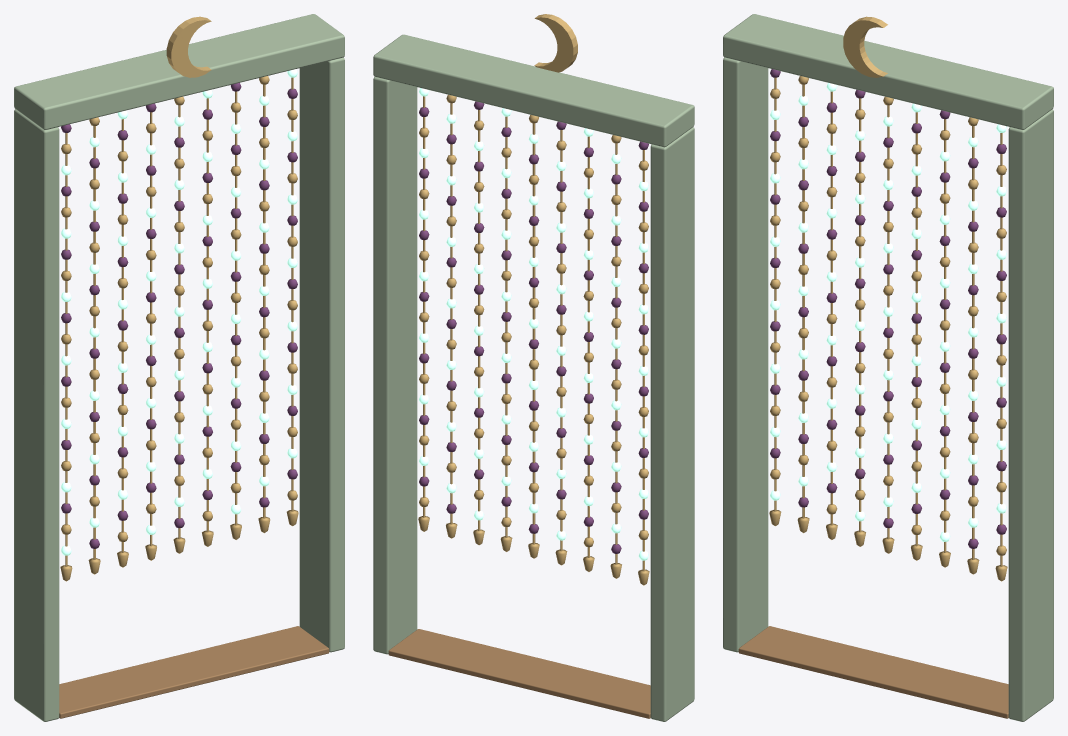
Rendered from Beaded_Doorway.fbx.
The picture shows the model from 3 angles, left to right: view 1: azimuth 30°, elevation 25°; view 2: azimuth 150°, elevation 25°; view 3: azimuth 330°, elevation 25°; orthographic projection. The views are drawn at different scales.
Visible parts, largest first — view 1: Beaded_Doorway_Mesh; view 2: Beaded_Doorway_Mesh; view 3: Beaded_Doorway_Mesh.
Part boxes in pixels (x1,y1,x2,y2): Beaded_Doorway_Mesh: (14,14,344,721); Beaded_Doorway_Mesh: (373,14,694,721); Beaded_Doorway_Mesh: (723,14,1053,721).
Bounding box in the file's own units: 1.12 × 2.37 × 0.22.
